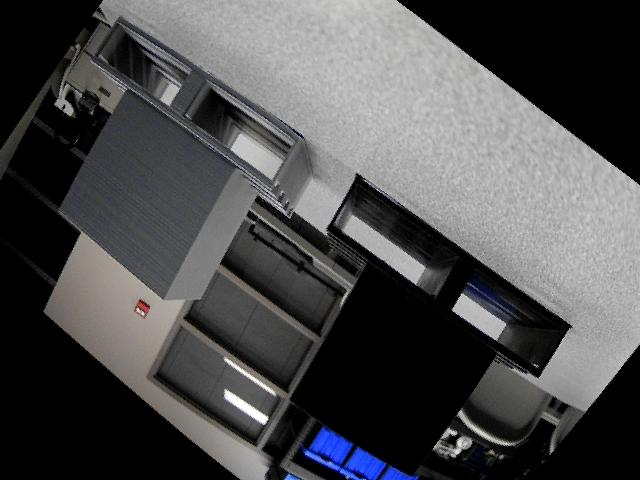black pallet: (287, 169, 574, 480)
grey pallet: (55, 11, 315, 304)
